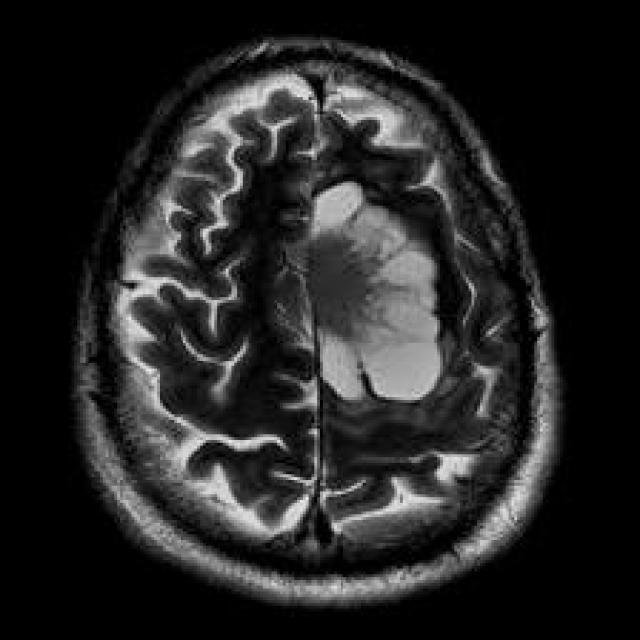meningioma_tumor: (299, 174, 446, 417)
